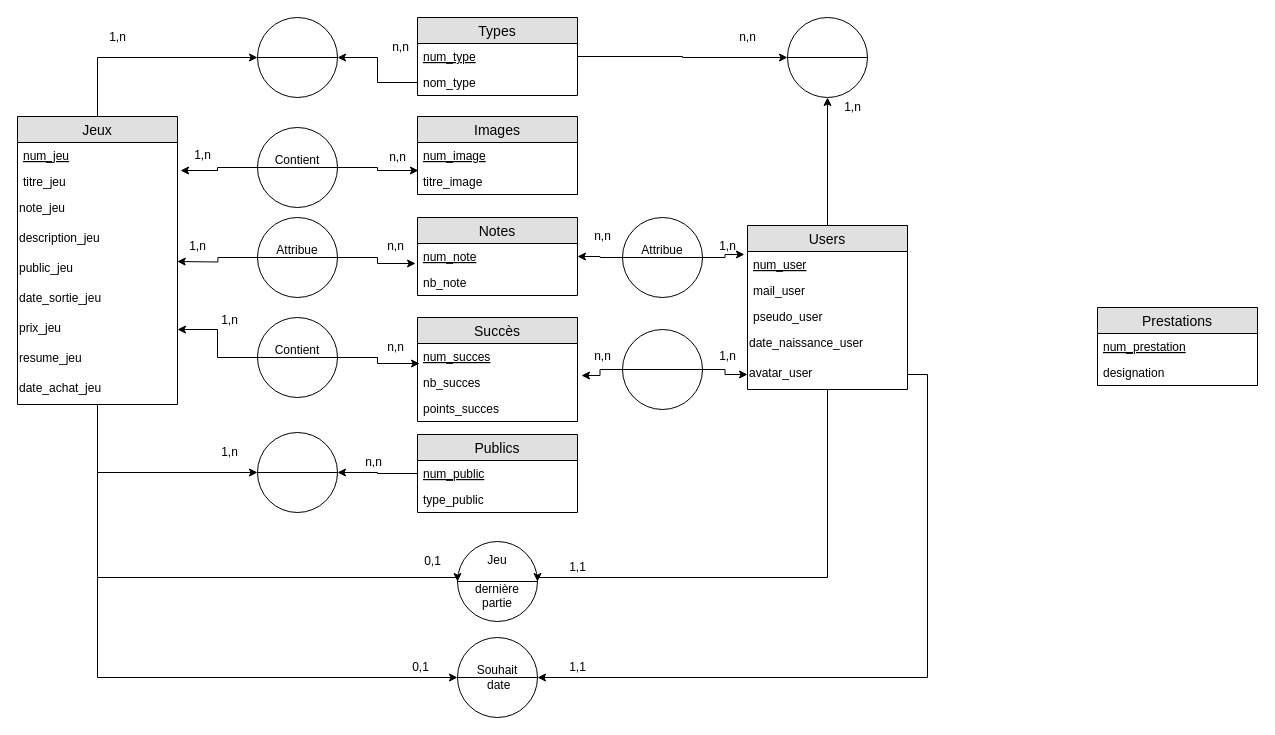
Image size: 1275x735. Some labels were removed from this diagram. Each missing label, with the centre of its shape:
Correspond: (297,472)
Obtient: (662,369)
Possède: (297,57)
Préfère: (827,57)
